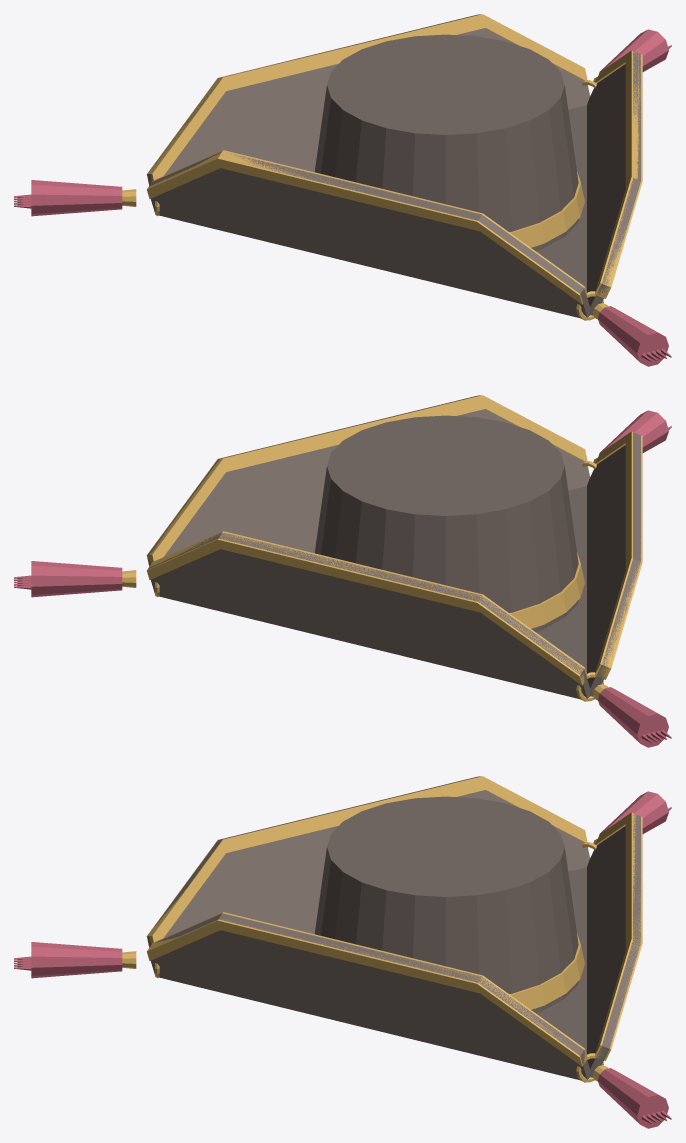
The model's file is chapeu_baltazar.glb.
3 renders of one model, top to bottom at view 1: azimuth 30°, elevation 25°; view 2: azimuth 150°, elevation 25°; view 3: azimuth 270°, elevation 25°, orthographic.
Visible parts, largest first — view 1: Chapeu, Pingente1, Pingente2, Pingente0; view 2: Chapeu, Pingente0, Pingente1, Pingente2; view 3: Chapeu, Pingente2, Pingente0, Pingente1.
Boxes of the visible parts, <box> form: Chapeu: <box>146,14,642,317</box>; Pingente1: <box>14,180,159,216</box>; Pingente2: <box>576,291,671,366</box>; Pingente0: <box>582,29,671,88</box>; Chapeu: <box>146,395,642,698</box>; Pingente0: <box>14,561,159,597</box>; Pingente1: <box>576,672,671,747</box>; Pingente2: <box>582,410,671,469</box>; Chapeu: <box>146,776,642,1079</box>; Pingente2: <box>14,942,159,978</box>; Pingente0: <box>576,1053,671,1128</box>; Pingente1: <box>582,791,671,850</box>.
Size of the model in its own units: 0.4345 by 0.082 by 0.3763.
